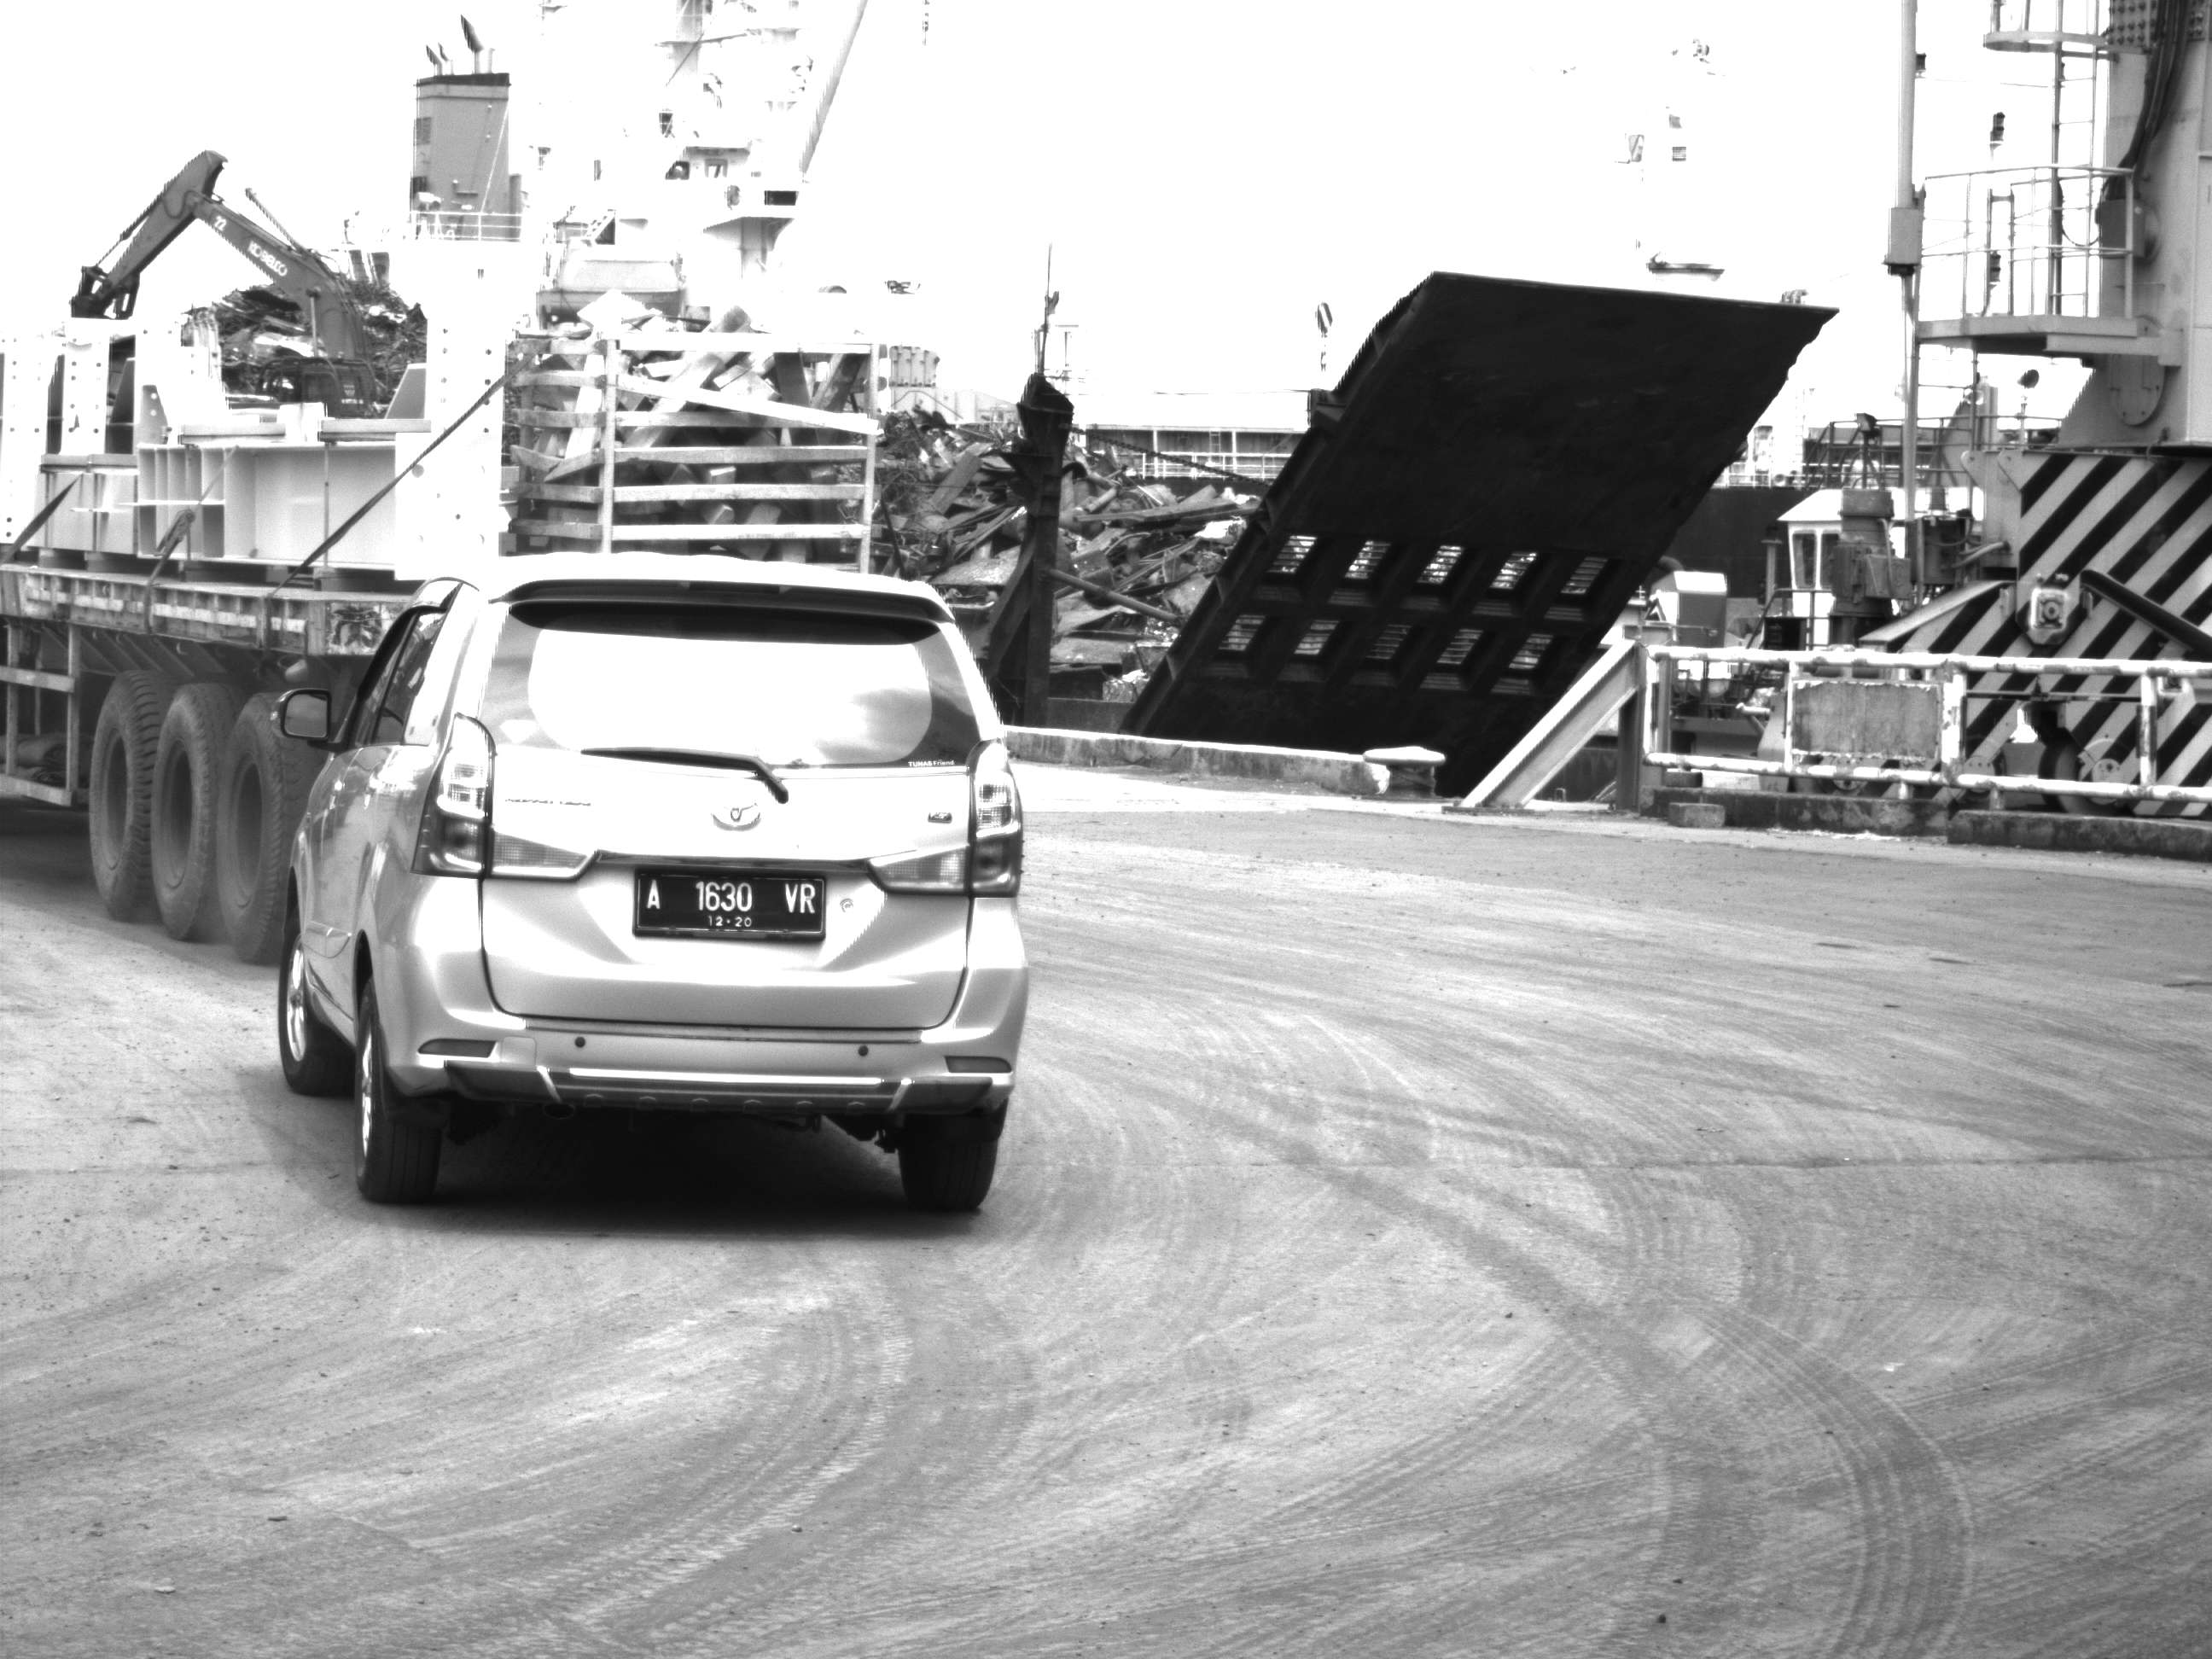day_small_rear: (253, 528, 1044, 1209)
plate: (633, 862, 840, 942)
